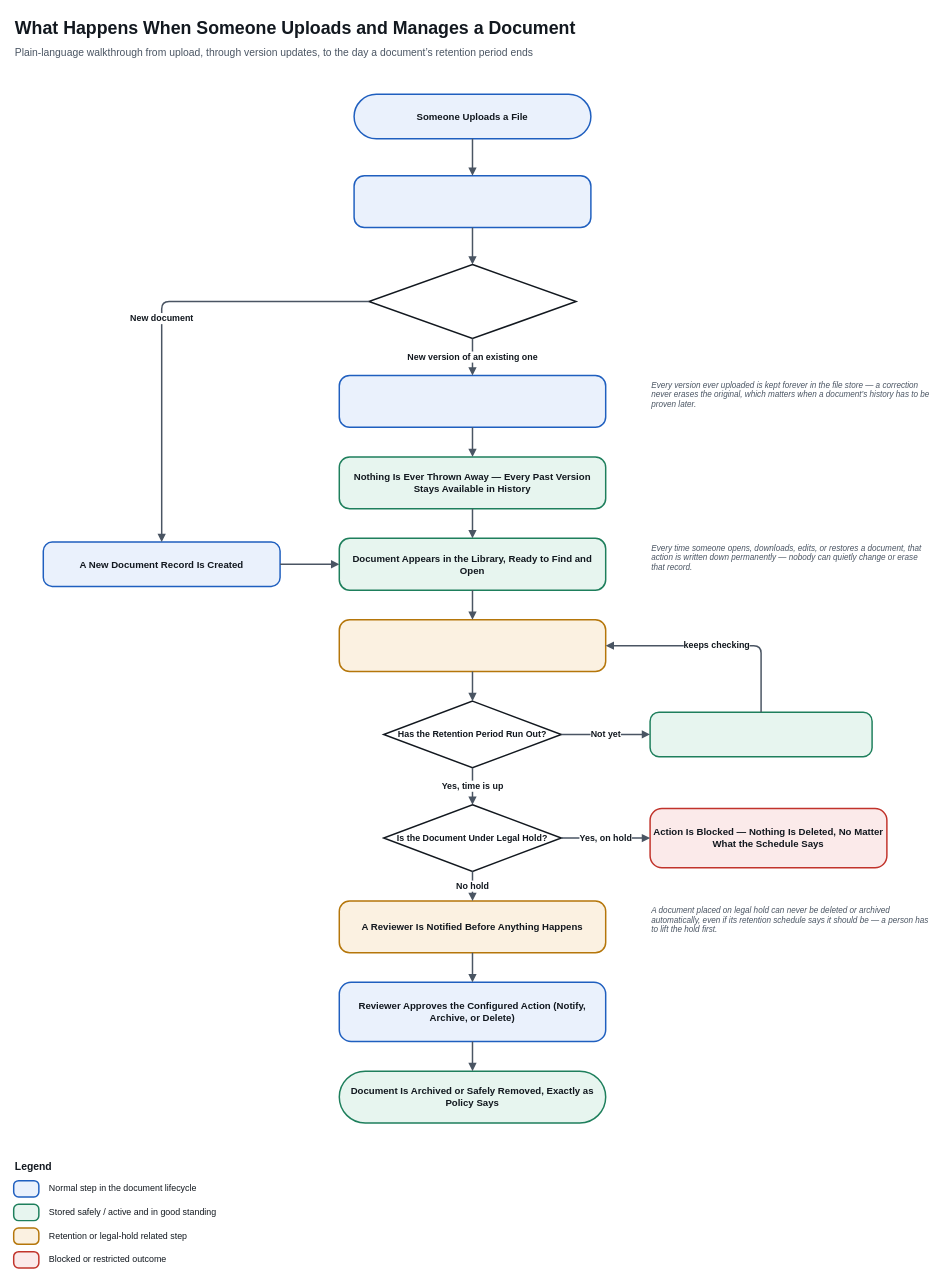
The diagram is 944 pixels wide and 1282 high, and some of its shapes have lost their labels. The centre of each missing label's shape, as x and y in pixels:
"A Retention Countdown Starts, Based on the Document’s Type" goes at point (472, 645).
"Document Stays Active, Countdown Keeps Running" goes at point (760, 734).
"Is This a Brand New Document, or a New Version of an Existing One?" goes at point (472, 301).
"The Old Copy Is Kept, the New One Becomes Current" goes at point (472, 401).
"The System Saves the File Safely and Notes Who Uploaded It" goes at point (472, 201).
